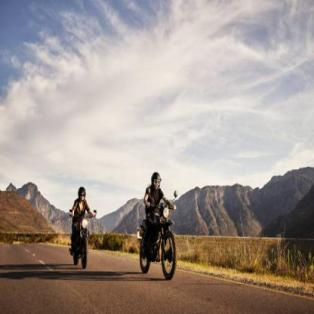Motocicleta: (135, 192, 185, 284), (62, 207, 98, 269)
